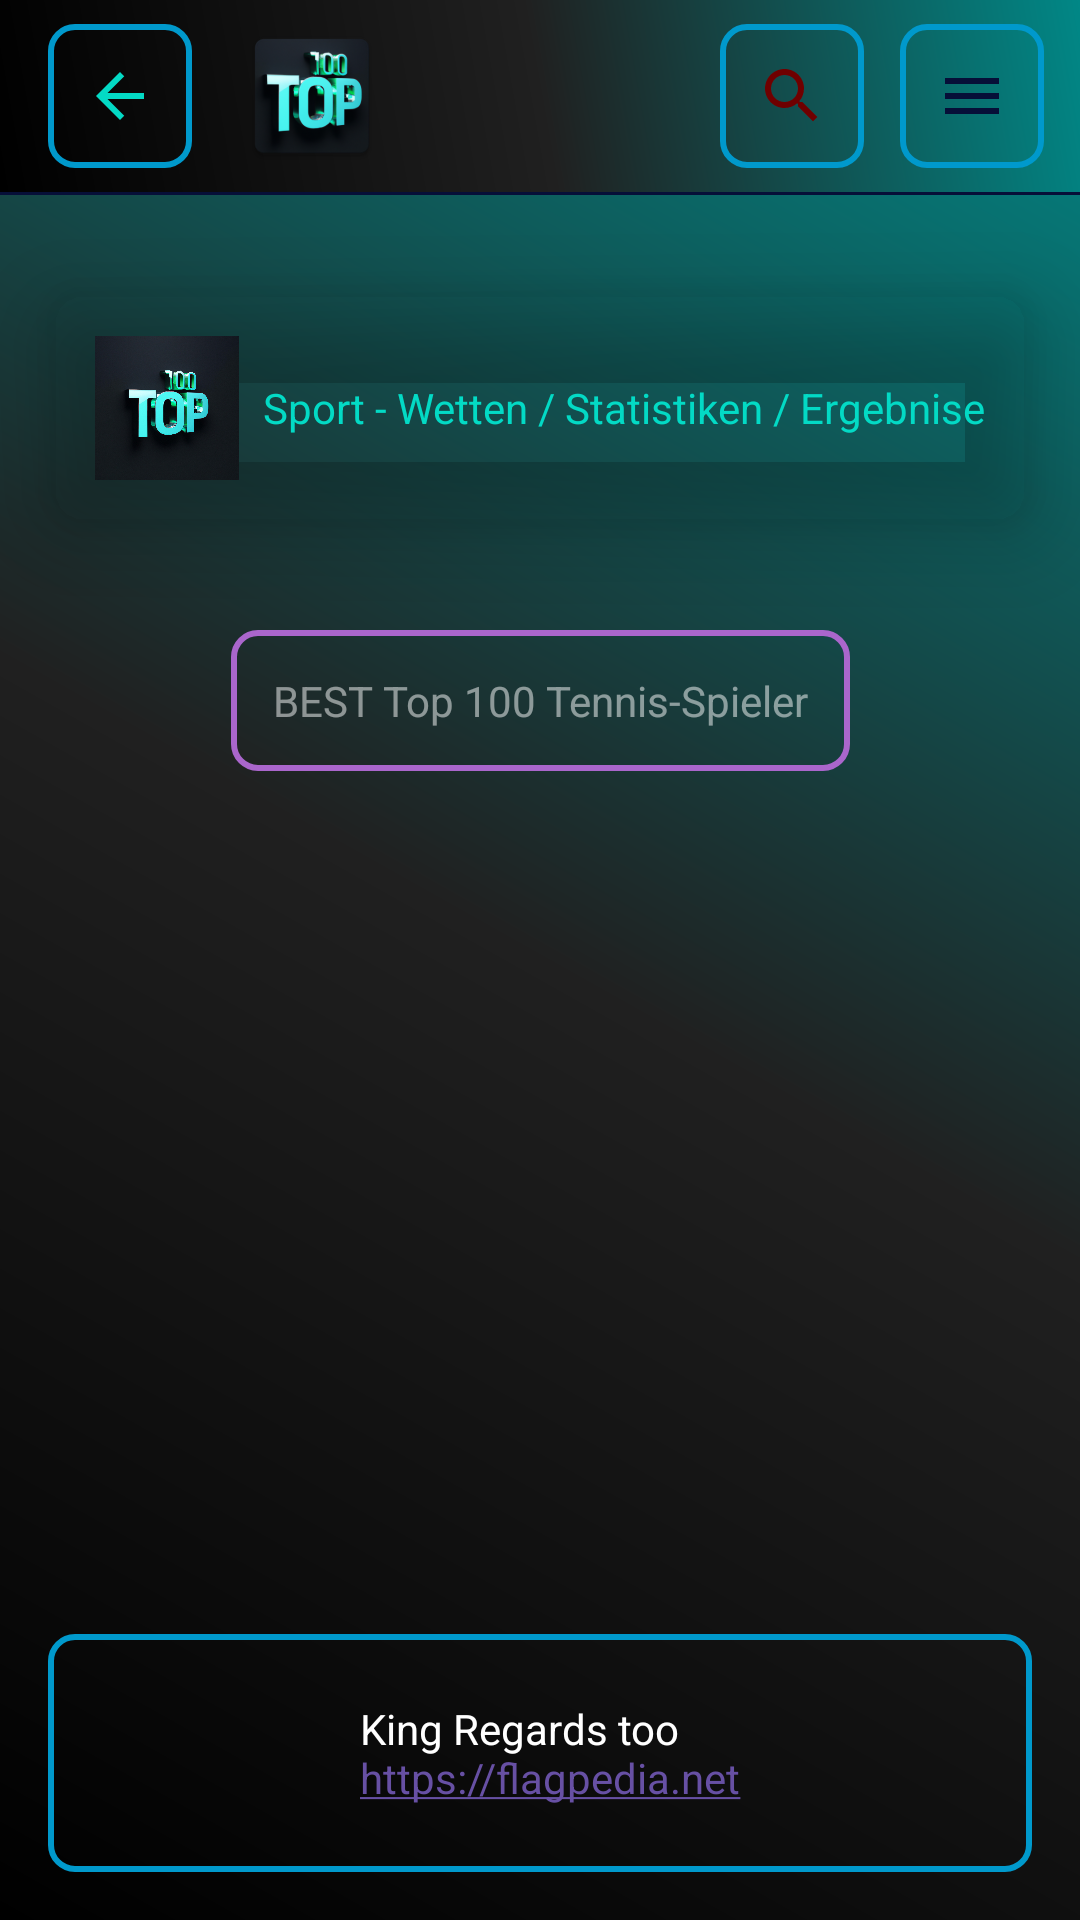

Named icons in this screenshot (1080px×1920px) and their bounding boxes, bbox=[x1, y1, x2, y2]:
Zum vorherigen Bildschirm gehen: bbox=[48, 24, 192, 168]
